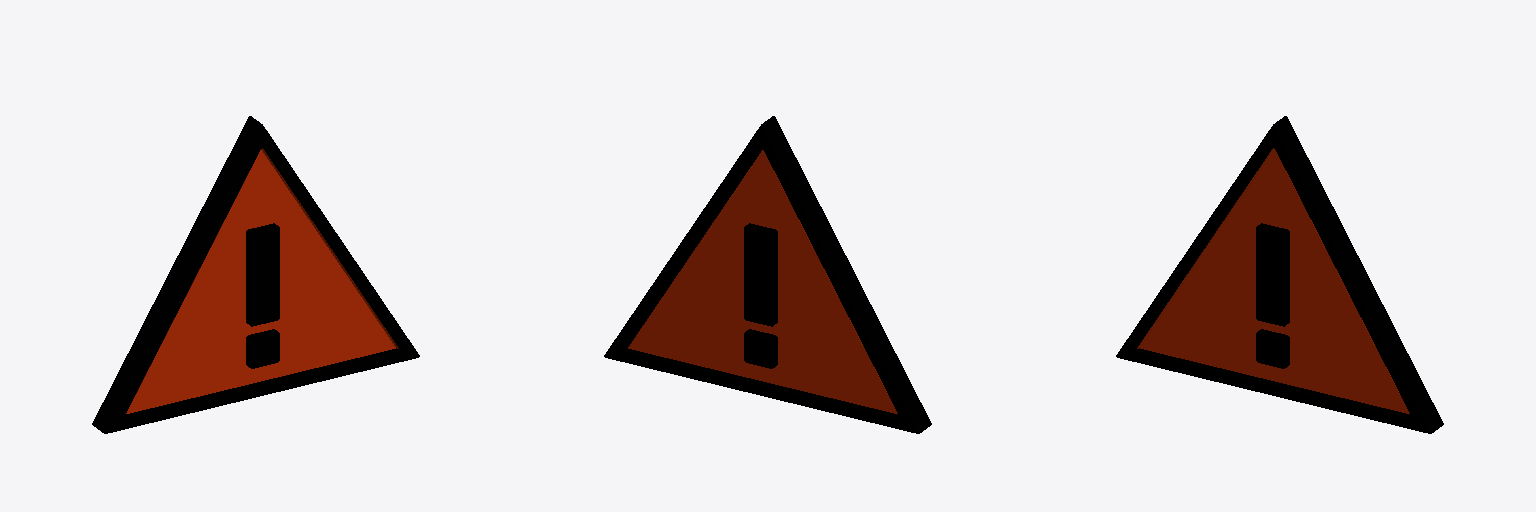
Rendered from warning.obj.
3 views of the same model, side by side, from view 1: azimuth 30°, elevation 25°; view 2: azimuth 150°, elevation 25°; view 3: azimuth 330°, elevation 25° (orthographic).
Visible parts, largest first — view 1: Cube; view 2: Cube; view 3: Cube.
Part boxes in pixels (x1,y1,x2,y2): Cube: (92, 116, 419, 433); Cube: (604, 116, 931, 433); Cube: (1116, 116, 1443, 433).
Bounding box in the file's own units: 1.99 × 1.63 × 0.2169.